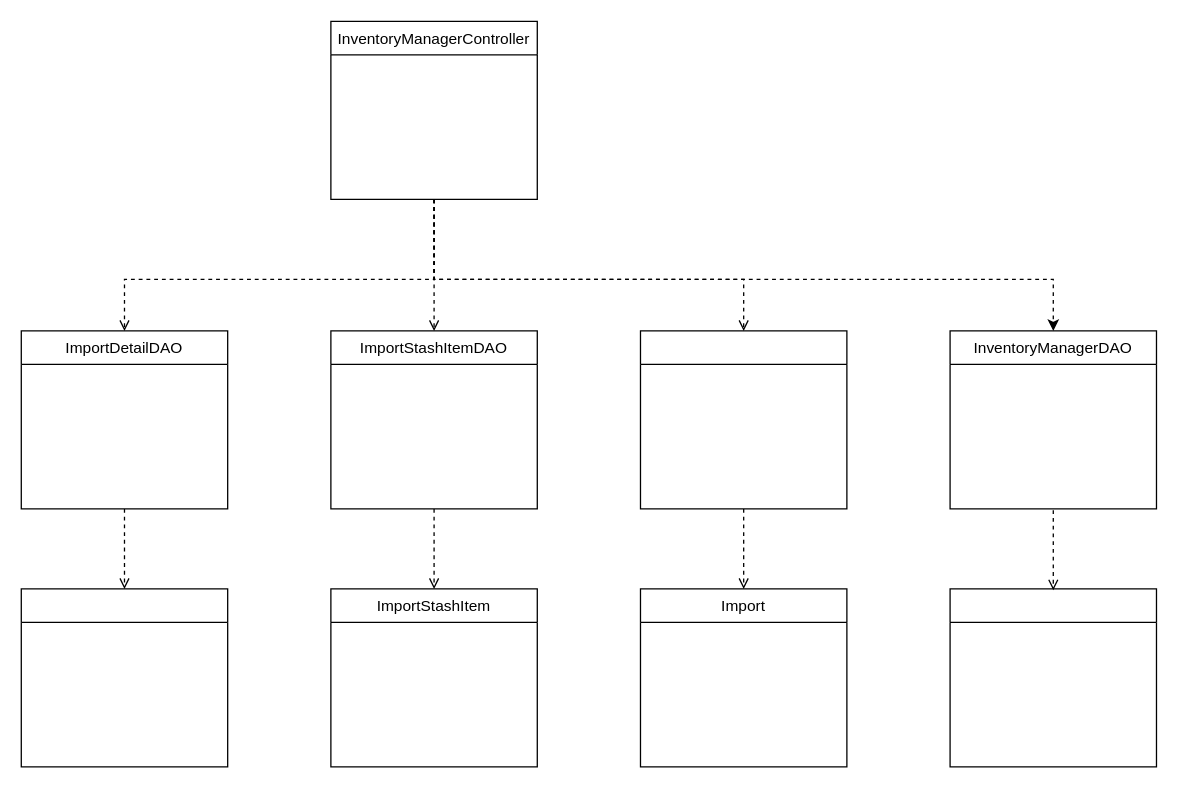
Some shapes in this 1178 by 788 pixel diagram are drawn without their labels. Here are the shapes that lost their labels. From the top down, the centre of each, then its label:
point 743,419: ImportDAO
point 124,677: ImportDetail
point 1052,677: InventoryManager
